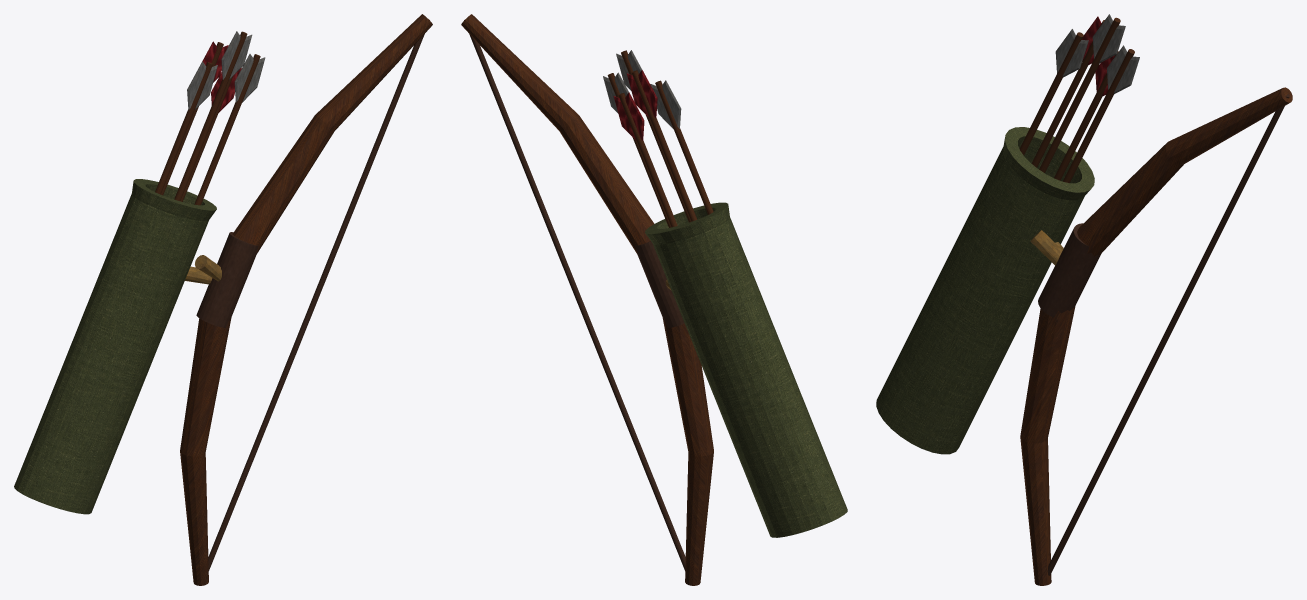
The model's file is longbow.obj.
3 views of the same model, side by side, from view 1: azimuth 30°, elevation 25°; view 2: azimuth 150°, elevation 25°; view 3: azimuth 330°, elevation 25° (orthographic). The views are drawn at different scales.
Visible parts, largest first — view 1: quiver, bow, string, grip, arrow2, arrow4, arrow0, strap; view 2: quiver, bow, string, grip, arrow1, arrow3, arrow0, arrow2; view 3: quiver, bow, string, grip, arrow2, arrow4, arrow1, arrow0, arrow3, strap.
Part boxes in pixels (bbox=[...]): quiver: bbox=[14, 179, 216, 514]; bow: bbox=[180, 14, 432, 585]; string: bbox=[208, 20, 429, 570]; grip: bbox=[196, 232, 258, 327]; arrow2: bbox=[174, 31, 247, 200]; arrow4: bbox=[194, 54, 260, 205]; arrow0: bbox=[155, 62, 212, 194]; strap: bbox=[185, 255, 221, 284]; quiver: bbox=[645, 202, 847, 537]; bow: bbox=[461, 14, 713, 585]; string: bbox=[464, 20, 685, 570]; grip: bbox=[635, 241, 684, 327]; arrow1: bbox=[631, 70, 697, 221]; arrow3: bbox=[618, 93, 677, 227]; arrow0: bbox=[655, 80, 713, 214]; arrow2: bbox=[621, 50, 691, 222]; quiver: bbox=[876, 127, 1094, 454]; bow: bbox=[1020, 87, 1292, 585]; string: bbox=[1047, 94, 1289, 575]; grip: bbox=[1038, 223, 1100, 317]; arrow2: bbox=[1039, 17, 1120, 172]; arrow4: bbox=[1063, 49, 1134, 182]; arrow1: bbox=[1031, 20, 1104, 167]; arrow0: bbox=[1019, 32, 1083, 155]; arrow3: bbox=[1054, 51, 1118, 180]; strap: bbox=[1030, 230, 1063, 265].
Size of the model in its own units: 80.76 by 103 by 14.82.
6 materials, 6 textured.
